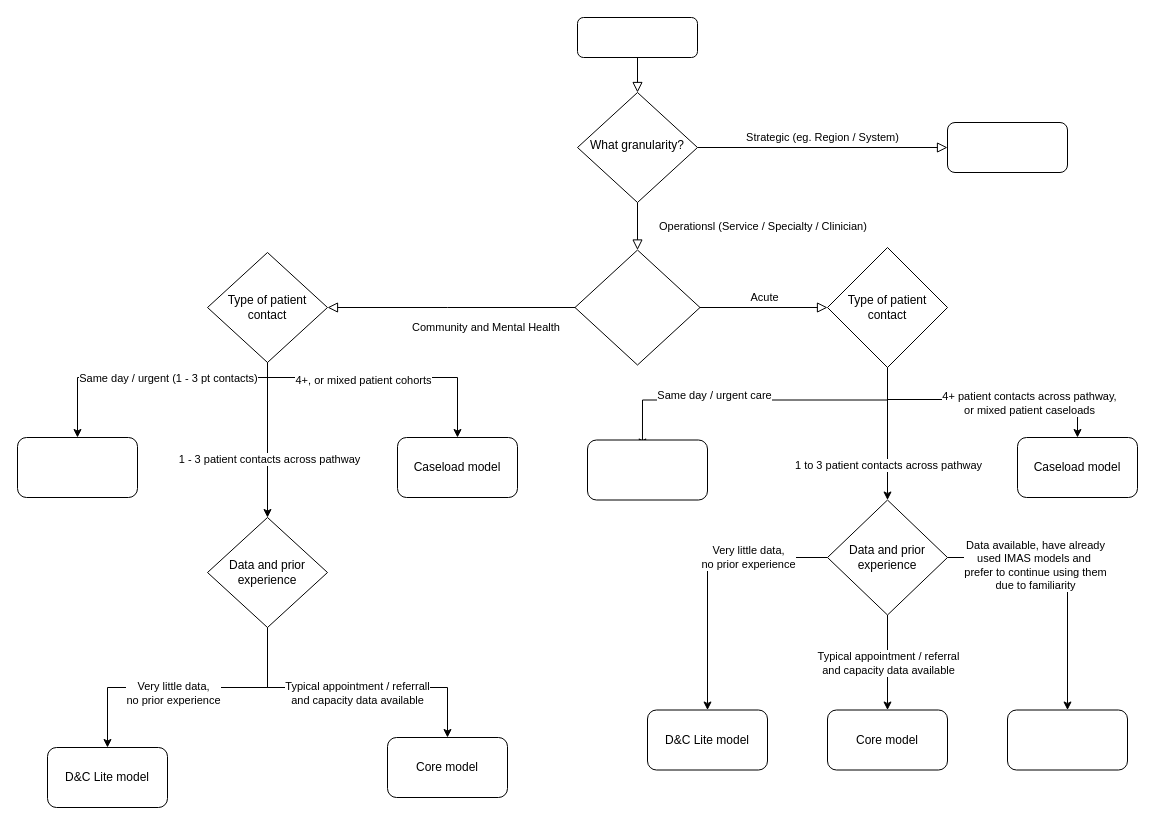
The diagram is 1155 pixels wide and 825 high, and some of its shapes have lost their labels. Here are the shapes that lost their labels. From the top down, the centre of each, then its label:
At pixel 637 37: "I want to do D&C modelling".
At pixel 1007 147: "Look at our system level offers (System Dynamics)".
At pixel 637 307: "What type of service?".
At pixel 77 467: "Urgent Response model".
At pixel 647 469: "ED model".
At pixel 1067 739: "Older (IMAS) models".
